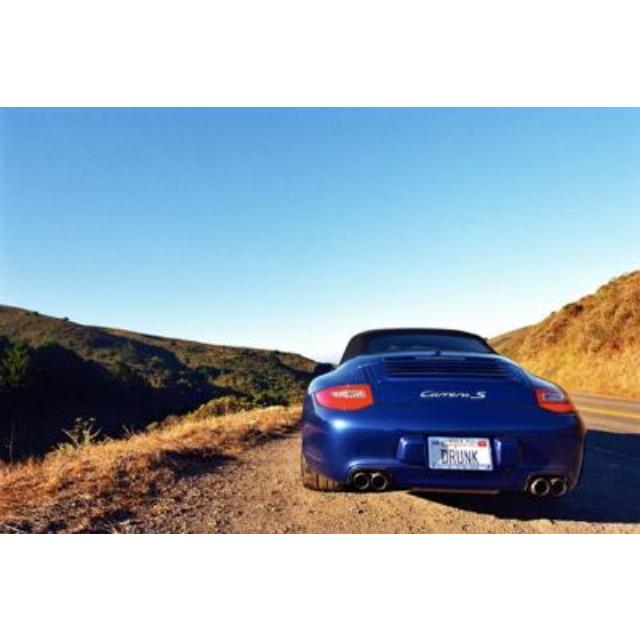car: (299, 334, 587, 498)
plate: (430, 436, 494, 470)
